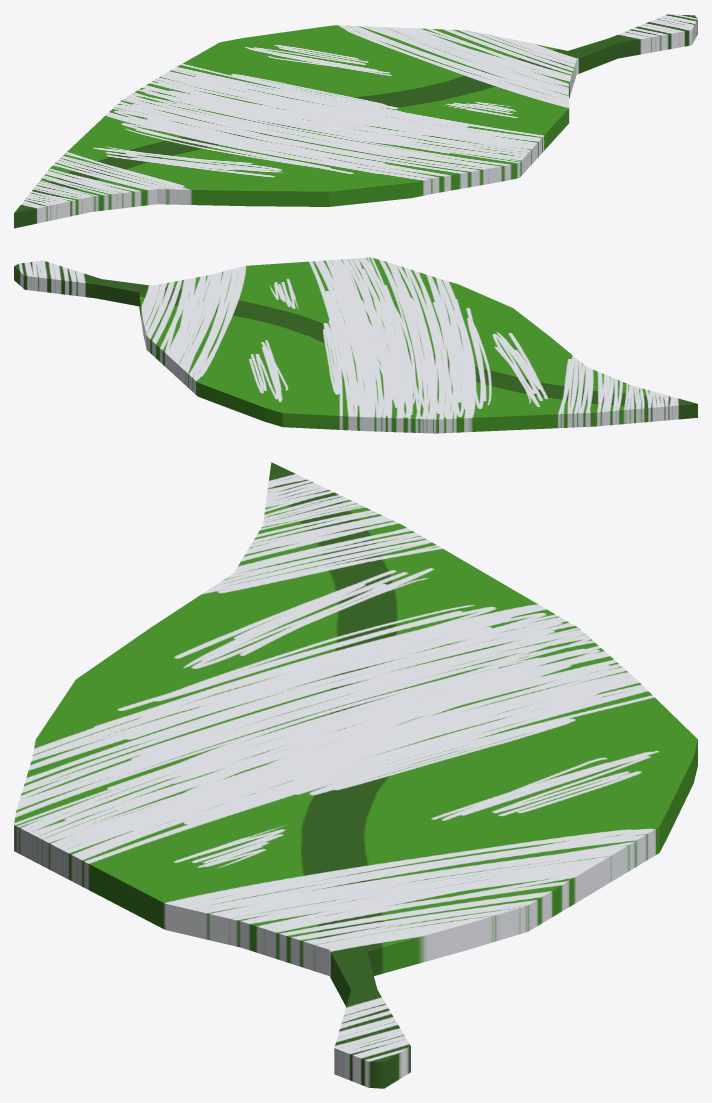
File: normal leaf level 1.fbx
3 renders of one model, top to bottom at view 1: azimuth 30°, elevation 25°; view 2: azimuth 150°, elevation 25°; view 3: azimuth 270°, elevation 25°, orthographic. The views are drawn at different scales.
Parts seen in each view (by area): view 1: Normal Leaf; view 2: Normal Leaf; view 3: Normal Leaf.
Boxes of the visible parts, x1,y1,x2,y2 form: Normal Leaf: (14,14,697,228); Normal Leaf: (14,257,697,433); Normal Leaf: (14,462,697,1088).
Size of the model in its own units: 10.71 by 0.2186 by 5.16.
1 material, 1 textured.
